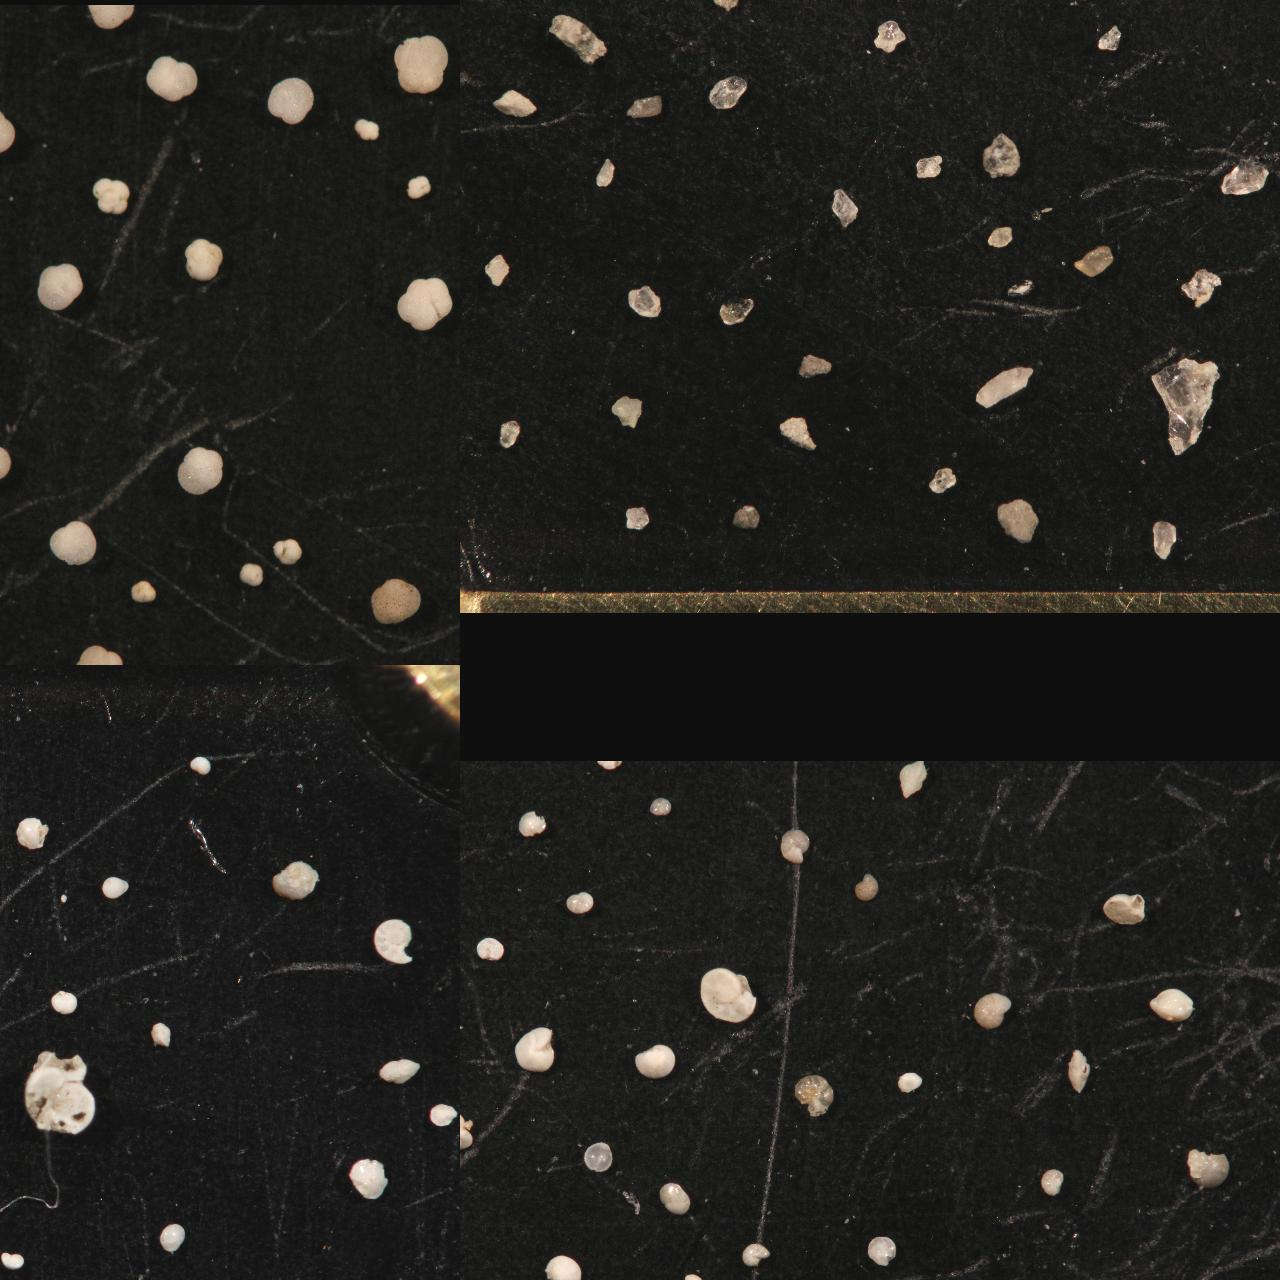Sediment: (1150, 358, 1223, 455), (546, 12, 610, 64), (973, 365, 1035, 408), (979, 131, 1021, 179), (995, 497, 1039, 543), (1220, 157, 1268, 196), (972, 0, 1032, 28), (1179, 268, 1223, 307), (490, 87, 539, 120), (1070, 241, 1116, 277), (778, 415, 818, 451), (707, 75, 749, 108), (625, 282, 663, 318), (830, 184, 860, 227), (872, 16, 907, 52), (1151, 519, 1182, 559), (459, 434, 485, 481), (716, 295, 756, 325), (495, 0, 544, 23), (608, 394, 644, 427), (624, 91, 663, 120), (482, 251, 512, 285), (729, 501, 761, 531), (795, 354, 833, 379), (927, 464, 959, 493), (913, 151, 945, 178), (1096, 23, 1124, 52), (495, 418, 523, 445), (709, 0, 743, 22), (622, 504, 652, 530), (713, 0, 754, 16), (594, 157, 618, 185), (986, 224, 1014, 246), (1019, 0, 1055, 16), (1244, 0, 1275, 15), (767, 0, 796, 16), (1216, 0, 1245, 16), (830, 0, 859, 12), (1098, 0, 1126, 12), (1247, 0, 1276, 7), (459, 0, 476, 12)
calcareous: (23, 1049, 96, 1133), (0, 1041, 54, 1133), (699, 966, 760, 1022), (268, 858, 321, 900), (372, 915, 416, 964), (513, 1026, 557, 1073), (792, 1073, 835, 1117), (347, 1155, 388, 1199), (1185, 1148, 1231, 1186), (631, 1042, 678, 1077), (1148, 987, 1194, 1021), (1101, 891, 1145, 924), (972, 990, 1010, 1028), (1065, 1047, 1092, 1092), (777, 828, 810, 863), (377, 1057, 421, 1083), (459, 1138, 486, 1179), (659, 1182, 692, 1214), (15, 817, 49, 849), (543, 1253, 583, 1280), (459, 1200, 488, 1238), (459, 1108, 483, 1152), (899, 761, 927, 797), (865, 1234, 897, 1266), (583, 1141, 613, 1172), (0, 815, 22, 855), (853, 870, 881, 900), (158, 1223, 186, 1252), (476, 934, 506, 961), (518, 809, 549, 836), (740, 1240, 770, 1266), (148, 1020, 175, 1048), (459, 1008, 482, 1042), (427, 1102, 457, 1126), (0, 998, 18, 1039), (565, 888, 593, 913), (50, 990, 80, 1014), (101, 876, 131, 898), (1040, 1167, 1064, 1194), (896, 1069, 922, 1092), (0, 1159, 19, 1192), (0, 1238, 19, 1271), (0, 726, 18, 758), (459, 881, 476, 917), (0, 1248, 27, 1269), (0, 958, 16, 989), (459, 1068, 475, 1102), (648, 795, 674, 815), (0, 1157, 16, 1187), (188, 755, 212, 774), (0, 1077, 14, 1109), (0, 908, 15, 935), (459, 1089, 474, 1117), (459, 760, 472, 790), (459, 998, 475, 1023), (0, 1192, 14, 1219), (0, 1144, 15, 1167), (0, 693, 14, 716), (459, 944, 474, 967), (0, 930, 13, 954), (0, 1000, 13, 1024), (0, 1226, 13, 1251), (0, 892, 13, 915), (0, 924, 12, 948), (459, 802, 472, 824), (0, 1173, 12, 1197), (0, 1131, 12, 1155), (0, 1096, 13, 1116), (0, 855, 12, 874), (681, 1272, 706, 1280), (0, 1183, 11, 1201)
planktic: (392, 33, 450, 95), (395, 274, 454, 332), (368, 577, 423, 626), (144, 54, 198, 102), (266, 74, 316, 124), (36, 261, 86, 311), (47, 518, 98, 565), (176, 445, 224, 493), (182, 237, 226, 279), (89, 176, 131, 215), (0, 434, 28, 489), (0, 105, 29, 158), (0, 309, 25, 359), (0, 440, 26, 486), (87, 4, 135, 28), (0, 172, 23, 222), (0, 376, 23, 424), (0, 536, 25, 580), (72, 644, 123, 665), (272, 537, 302, 565), (352, 116, 381, 141), (237, 561, 265, 586), (406, 173, 433, 198), (129, 579, 157, 601), (0, 256, 18, 284)
